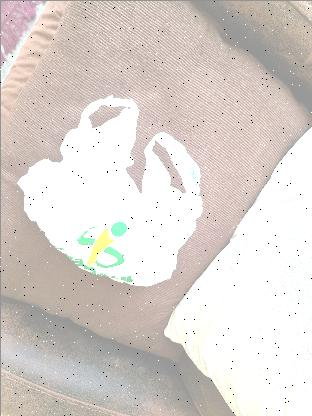Others: (13, 99, 193, 285)
